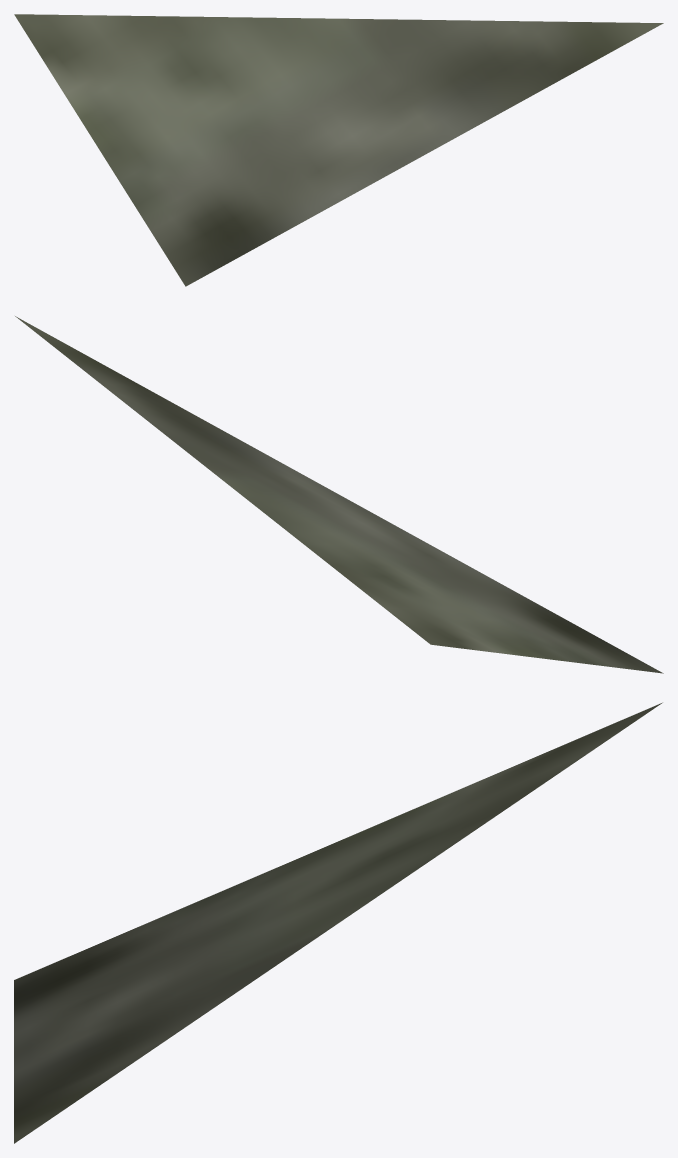
The picture shows the model from 3 angles, top to bottom: view 1: azimuth 30°, elevation 25°; view 2: azimuth 150°, elevation 25°; view 3: azimuth 270°, elevation 25°; orthographic projection. The views are drawn at different scales.
Size of the model in its own units: 0.3638 by 0.1068 by 0.2261.
1 material, 1 textured.
